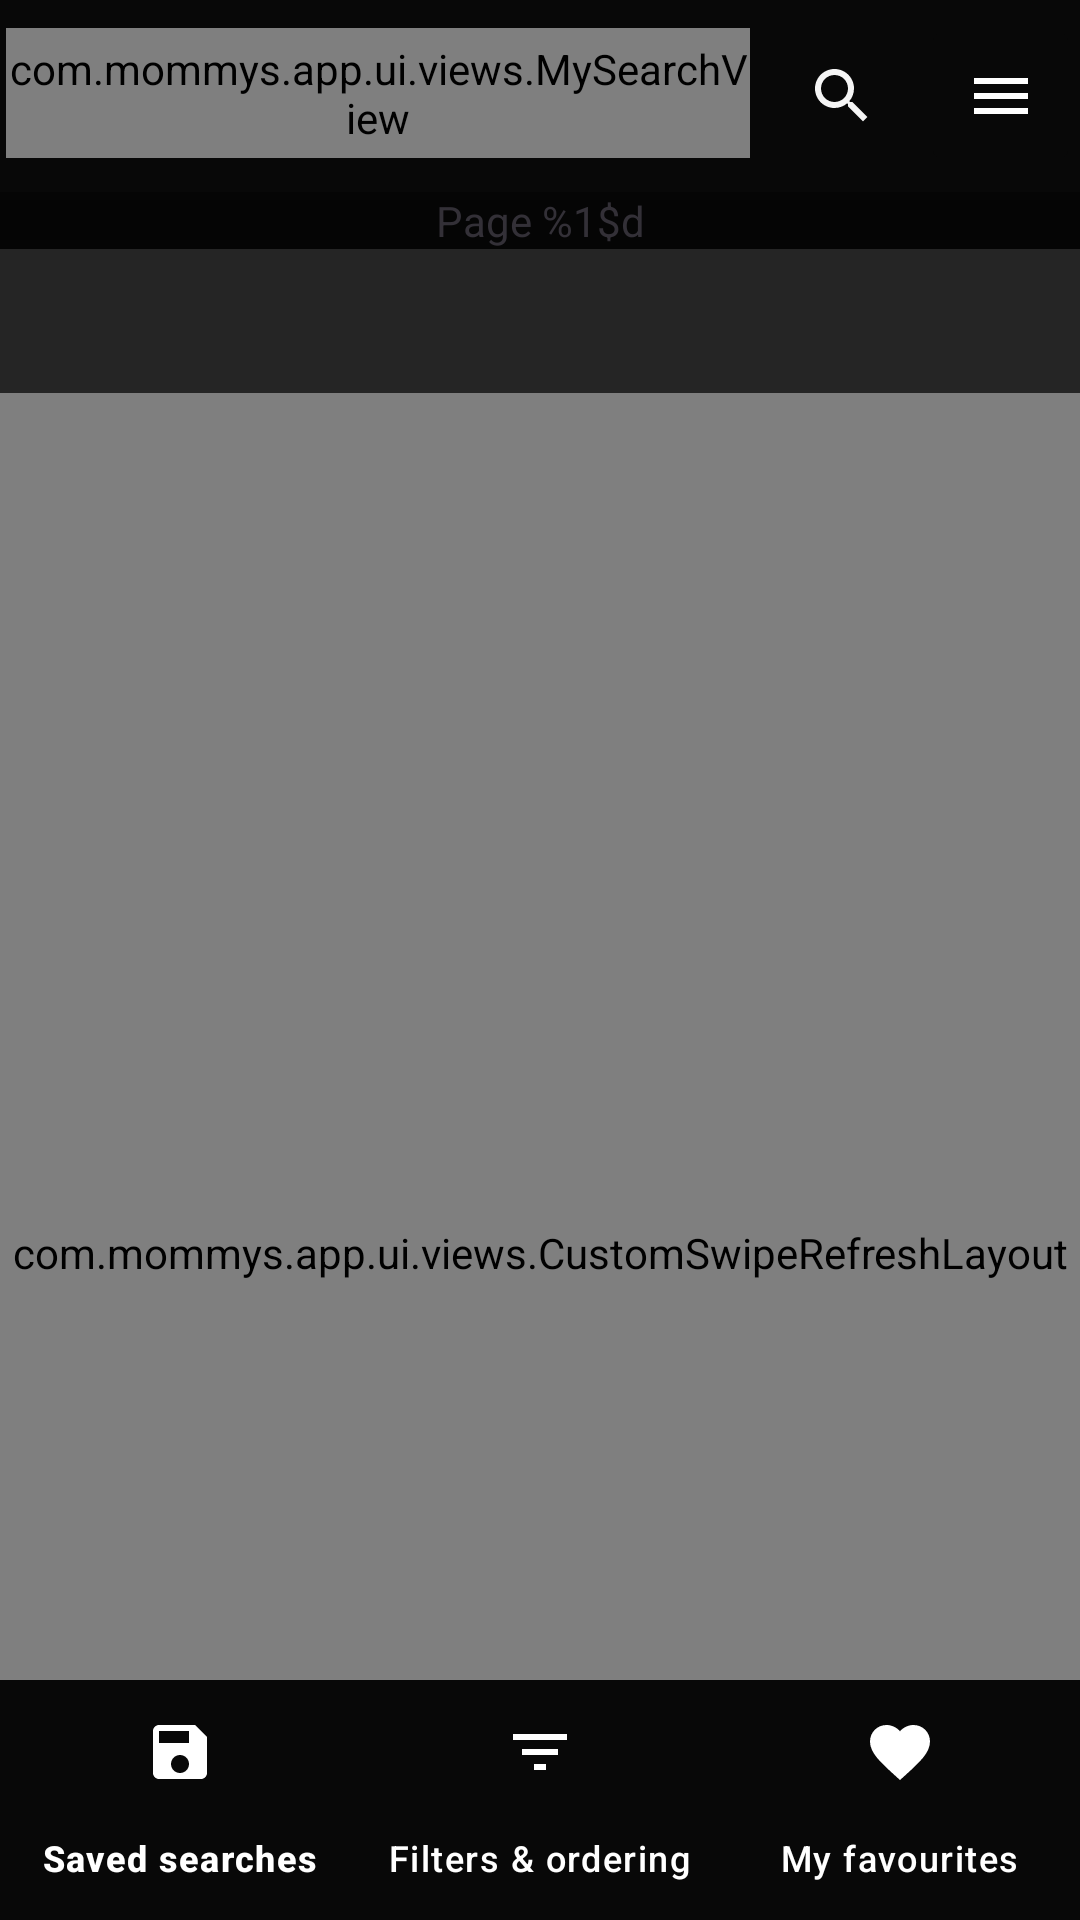

Locate icon controls on the screen. Image size 1080×1920, boxes as (x1, y1, x2, y2).
Menu: (974, 78, 1028, 114)
